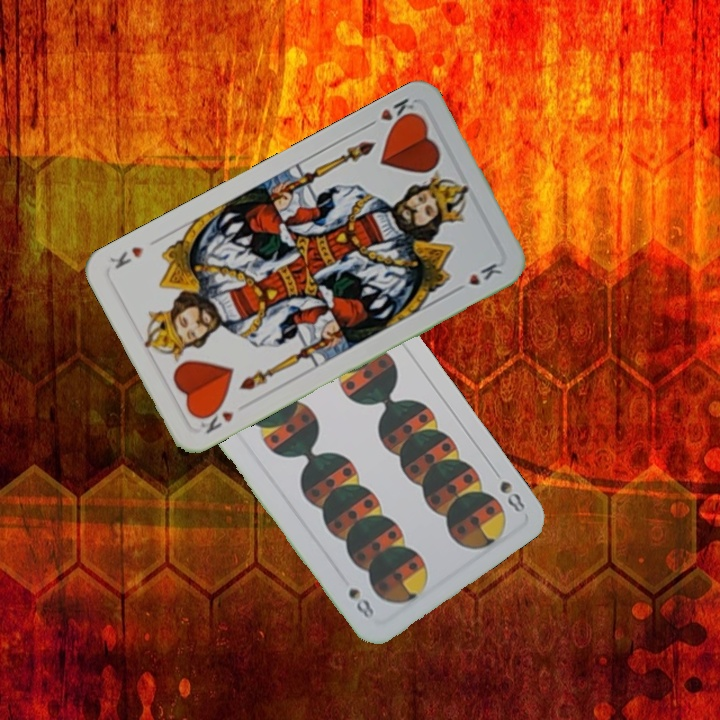HK: (361, 94, 421, 131), (194, 401, 237, 437)
S8: (487, 463, 528, 516)
